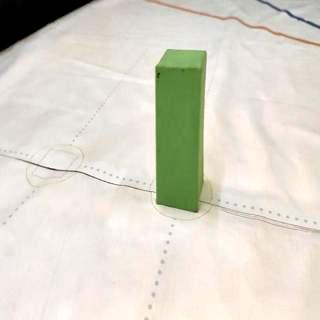greenbox: (154, 47, 208, 215)
